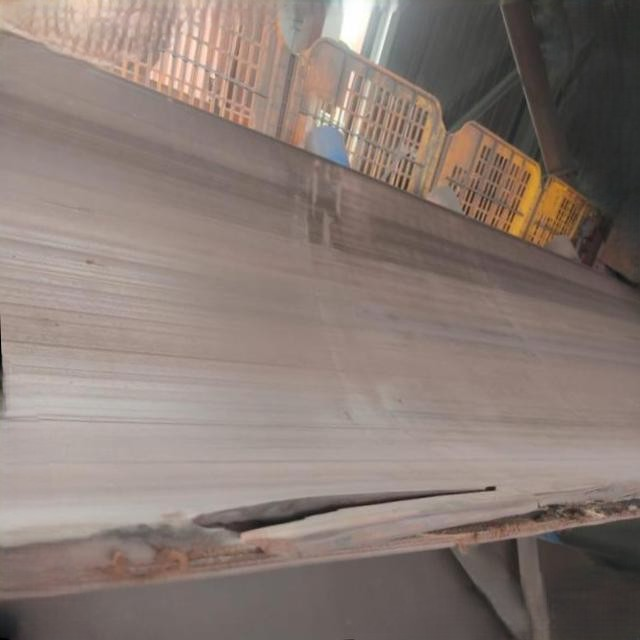Tear: (185, 478, 504, 546)
